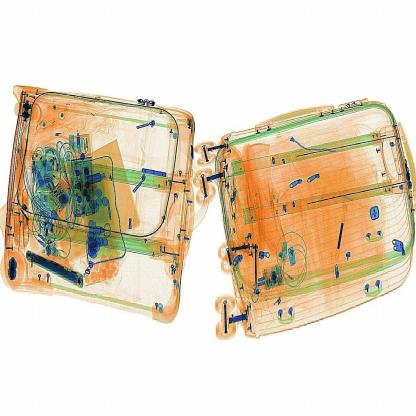wrench: (249, 232, 264, 313)
